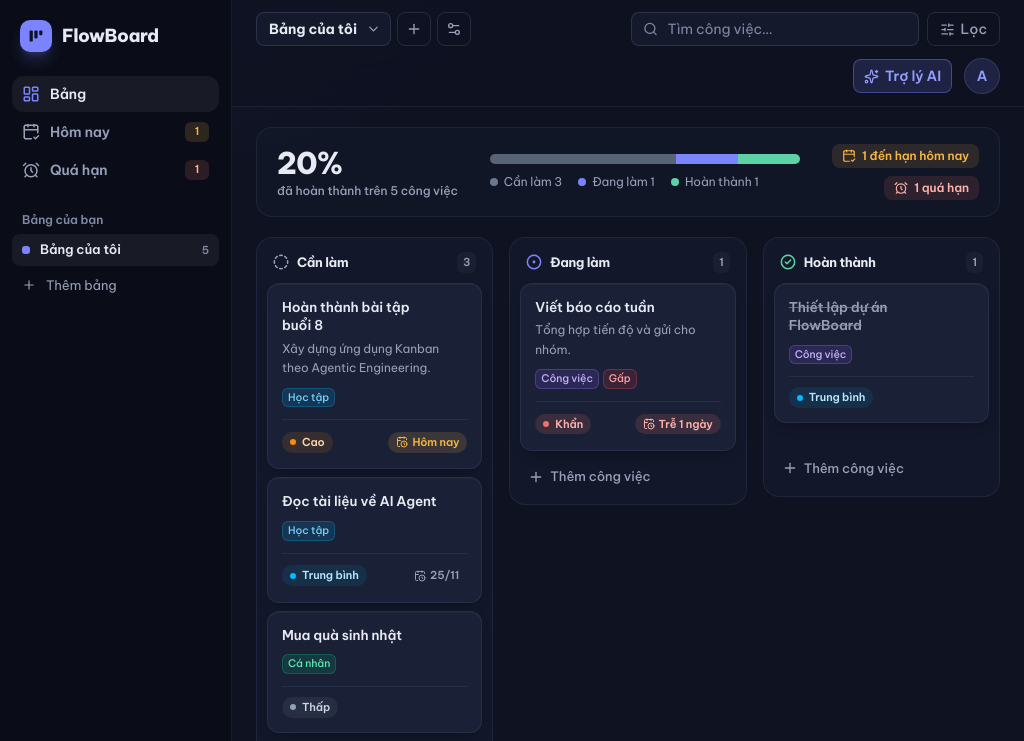
Test: AuthGate › switching accounts while in the Today view shows none of the previous account’s tasks
Later steps or results of the test are not shown.
Expected: the text "Viết báo cáo tuần" is shown, [535,298,654,316]
Click the button "Hôm nay 1" at (116, 132), box [12,114,219,150]
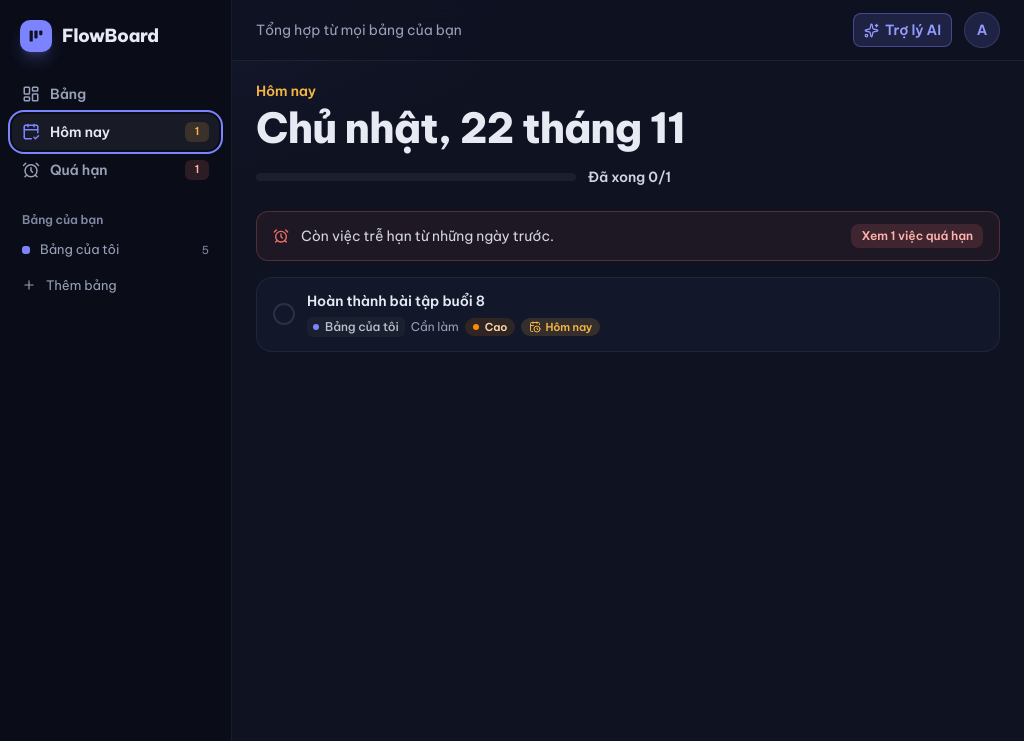
Expected: the list named "Việc đến hạn hôm nay" is shown, [256,277,1000,352]
